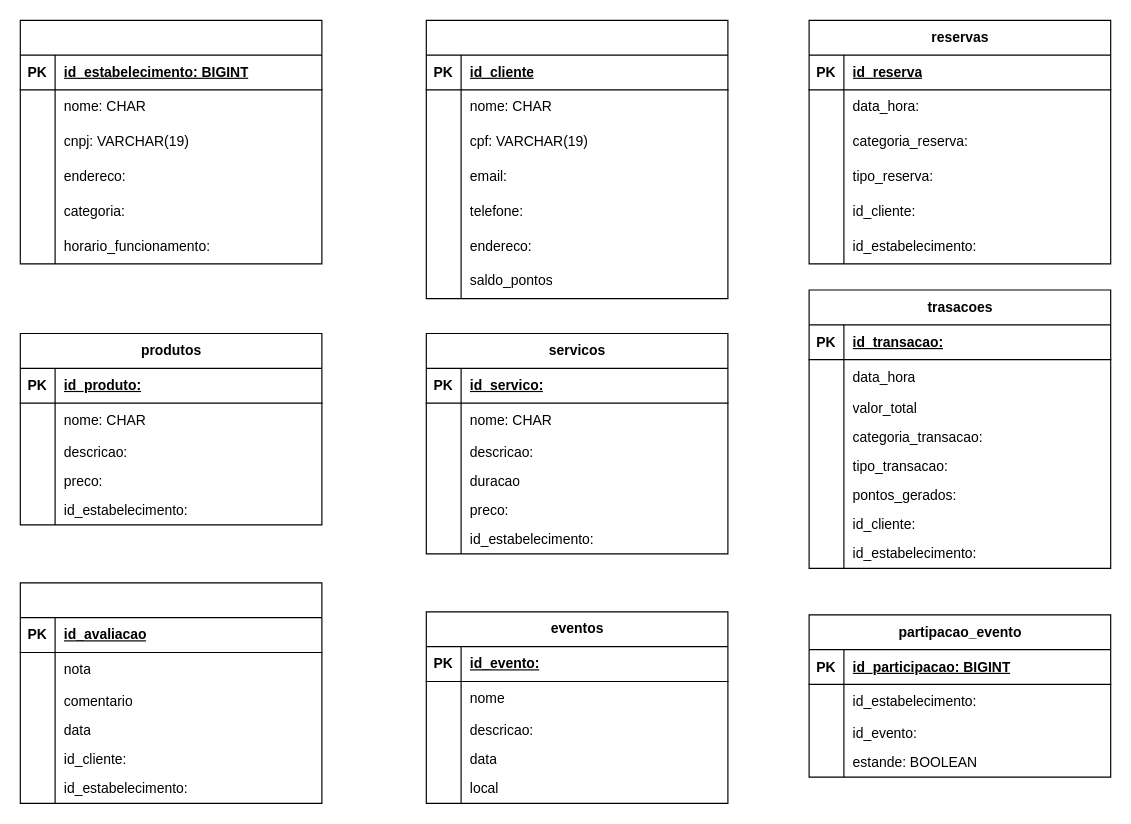
Image size: 1131x824. Some labels were removed from this diagram. The box of each missing label's shape, as (x1, y1, x2, y2) in pixels:
avaliacoes: (19, 582, 322, 803)
clientes: (425, 19, 728, 299)
estabelecimentos: (19, 19, 322, 264)
